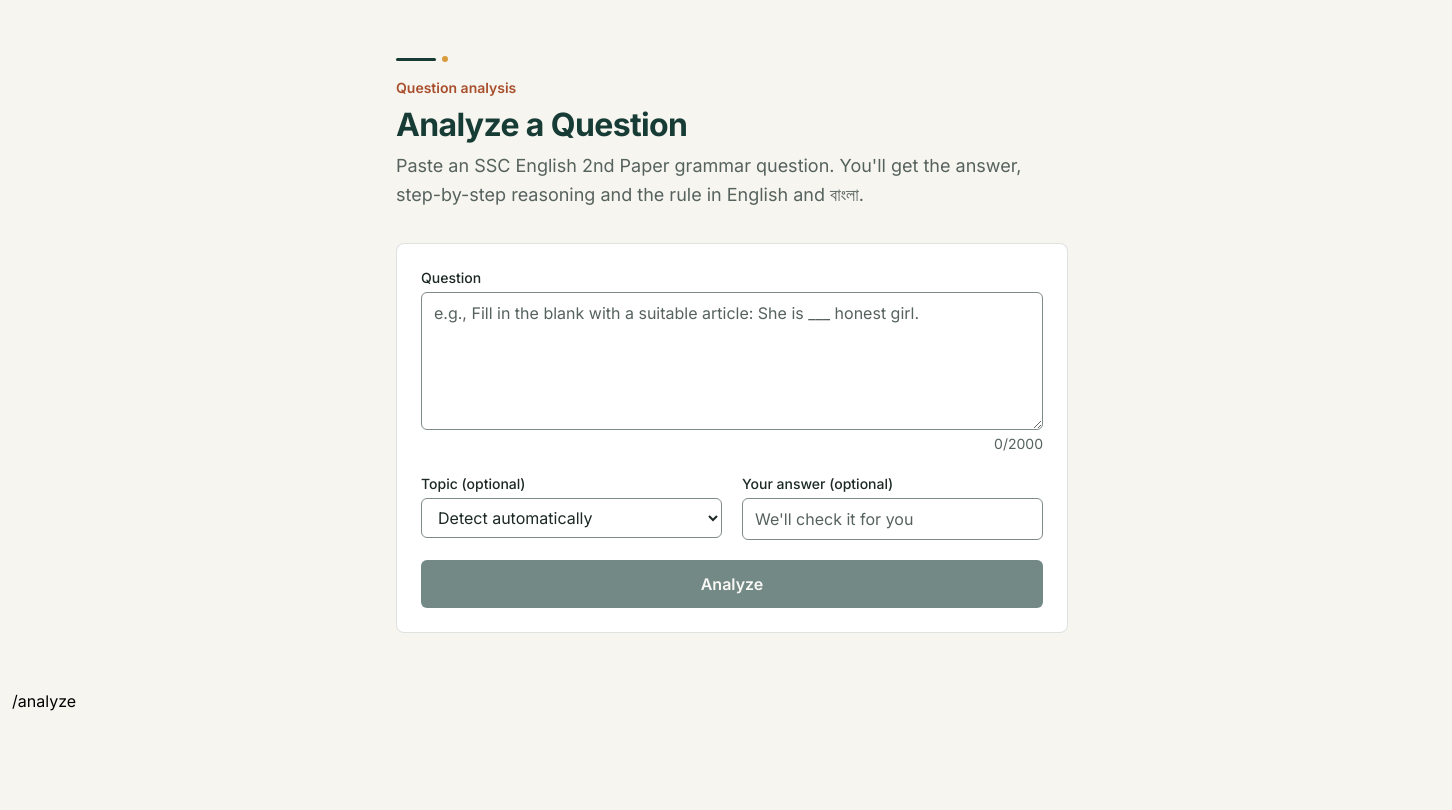
Test: AnalyzePage › a remembered Bangla preference applies straight away
Type "She is ___ honest girl." into the text box labelled "Question" at (732, 361), box [421,292,1043,430]
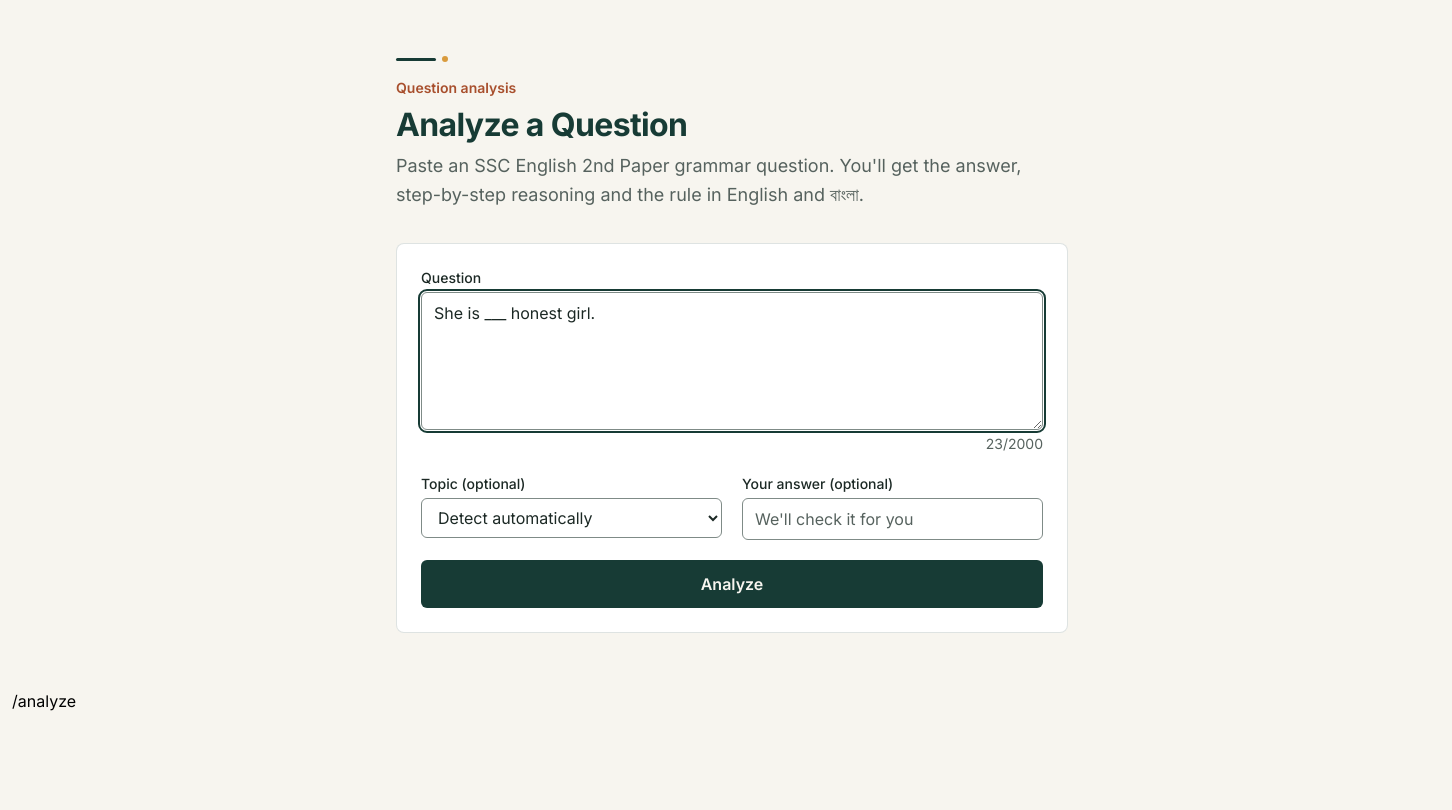
Click the button "Analyze" at (732, 584), box [421,560,1043,608]
(page scrolled)
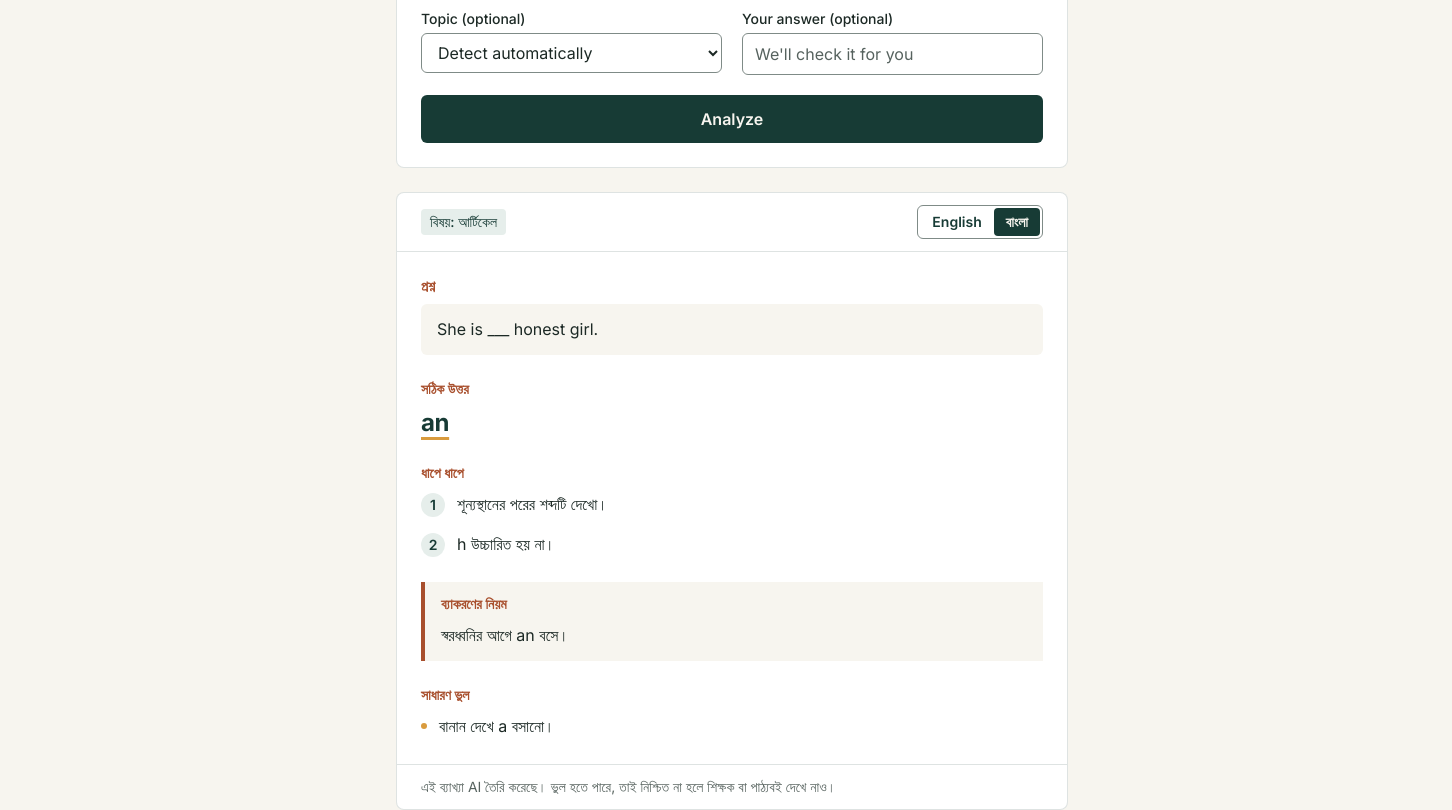
Check: the text "স্বরধ্বনির আগে an বসে।" is shown, box [441,625,569,645]
